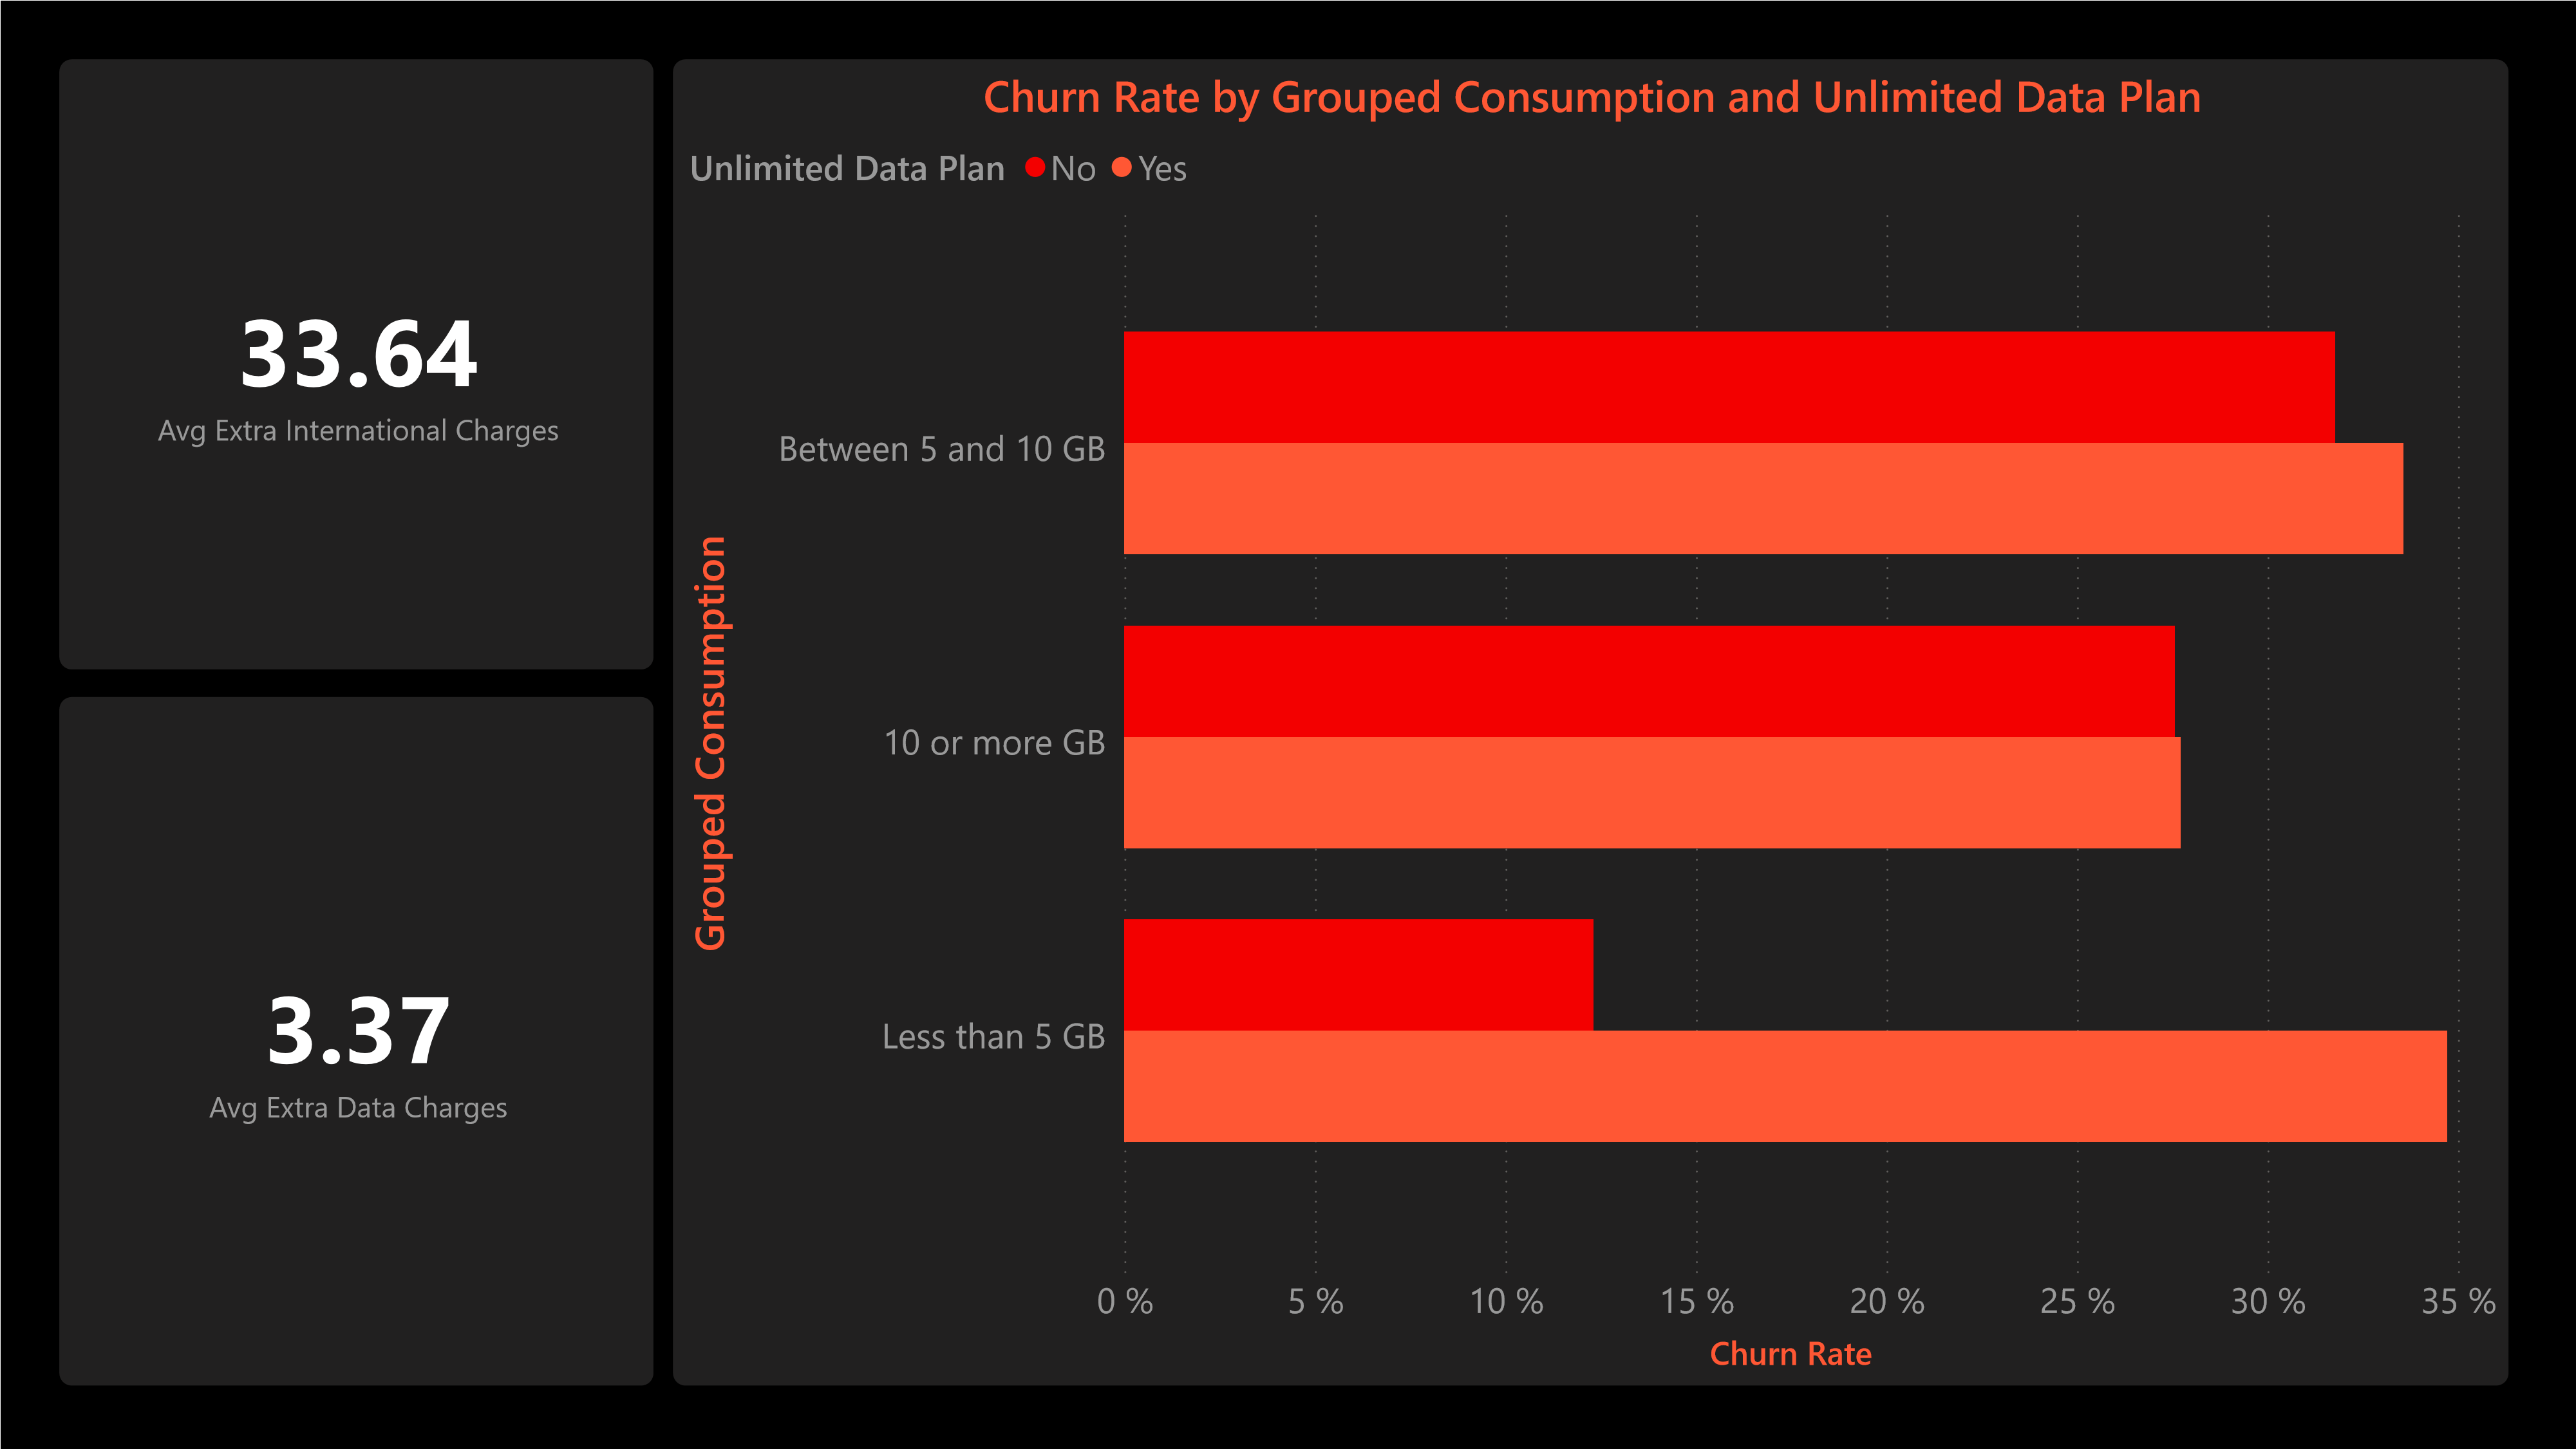

The dashboard page shown, as its layout file describes it:
{"tool":"powerbi","page":{"name":"Extra Charges","canvas":[1280,720],"ordinal":8},"visuals":[{"type":"clusteredBarChart","fields":{"Category":["Databel - Data.Grouped Consumption"],"Y":["Databel - Data.Churn Rate"],"Series":["Databel - Data.Unlimited Data Plan"]},"box":[334.1,29.4,912.2,659.1],"z":0},{"type":"card","fields":{"Values":["Databel - Data.Avg Extra International Charges"]},"box":[29.4,29.4,294.6,302.7],"z":1000},{"type":"card","fields":{"Values":["Databel - Data.Avg Extra Data Charges"]},"box":[29.4,346.3,294.6,342.2],"z":2000}]}

Visuals, with their boxes in screenshot pixels (x1, y1, x2, y2), scaled from the page's 1280x720 canvas onto the 2576x1449 screenshot:
clusteredBarChart - Databel - Data.Grouped Consumption x Databel - Data.Churn Rate: BBox(672, 59, 2508, 1386)
card - Databel - Data.Avg Extra International Charges: BBox(59, 59, 652, 668)
card - Databel - Data.Avg Extra Data Charges: BBox(59, 697, 652, 1386)
